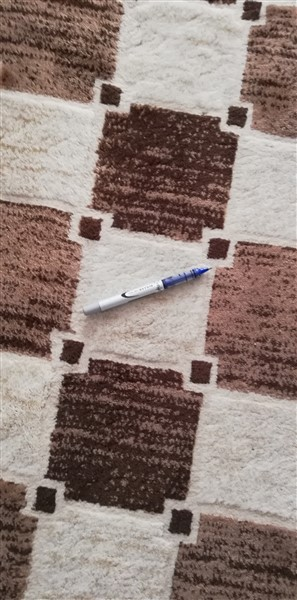pilot kalem: (72, 259, 218, 334)
